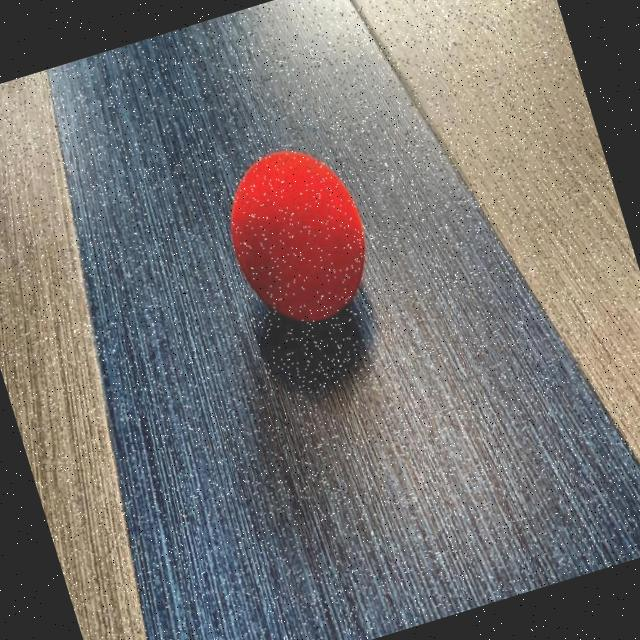ping-pong-ball: (208, 131, 388, 342)
